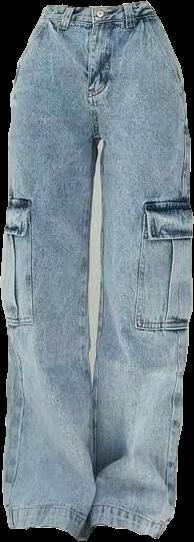Hemline: (8, 523, 89, 541), (85, 522, 161, 540)
Pantleg: (87, 1, 192, 537), (1, 5, 97, 539)
Waistline: (37, 14, 160, 25), (44, 0, 150, 11)
